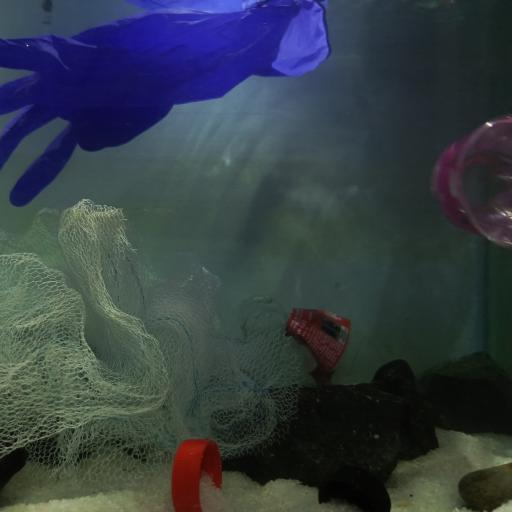bottle_cap: (170, 438, 222, 512)
glove: (0, 0, 334, 204)
net: (0, 198, 301, 486)
plastic_bottle: (235, 294, 388, 384), (432, 117, 512, 246)
